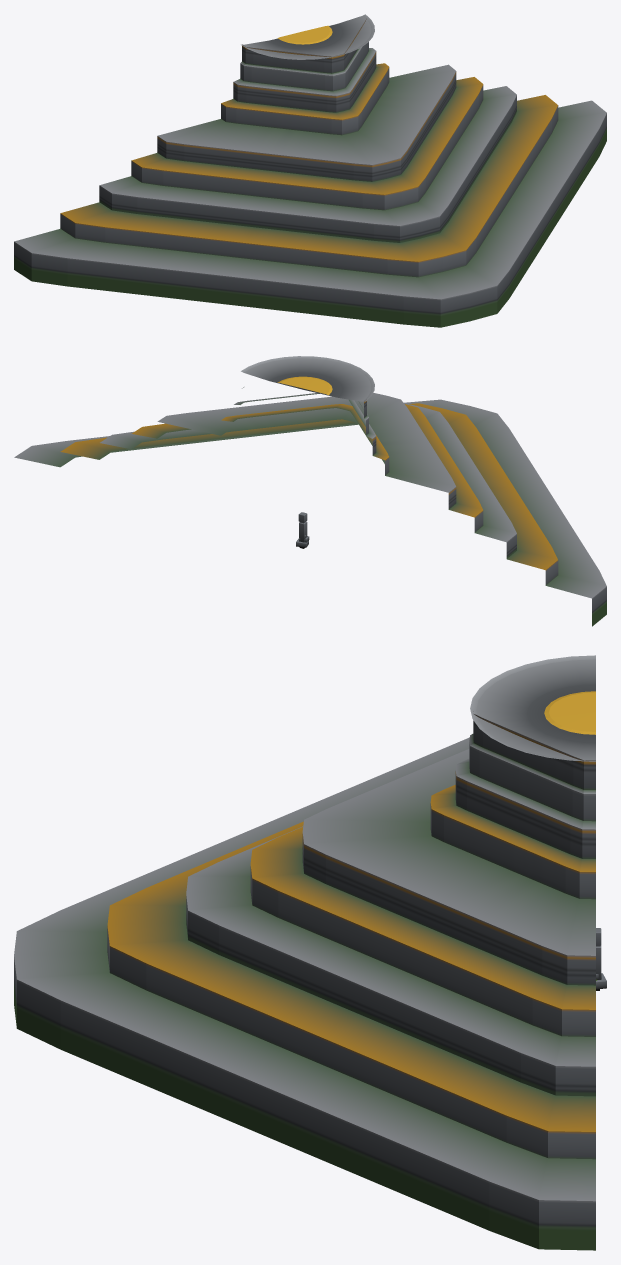
Rendered from temple-s2-67N9f-sc.glb.
The picture shows the model from 3 angles, top to bottom: view 1: azimuth 30°, elevation 25°; view 2: azimuth 150°, elevation 25°; view 3: azimuth 270°, elevation 25°; orthographic projection. The views are drawn at different scales.
Visible parts, largest first — view 1: sc_landmark_1; view 2: sc_landmark_1; view 3: sc_landmark_1.
Boxes of the visible parts, x1=… form: sc_landmark_1: x1=14, y1=14, x2=606, y2=327; sc_landmark_1: x1=14, y1=356, x2=606, y2=626; sc_landmark_1: x1=14, y1=655, x2=595, y2=1250.
Bounding box in the file's own units: 758 × 213 × 386.
